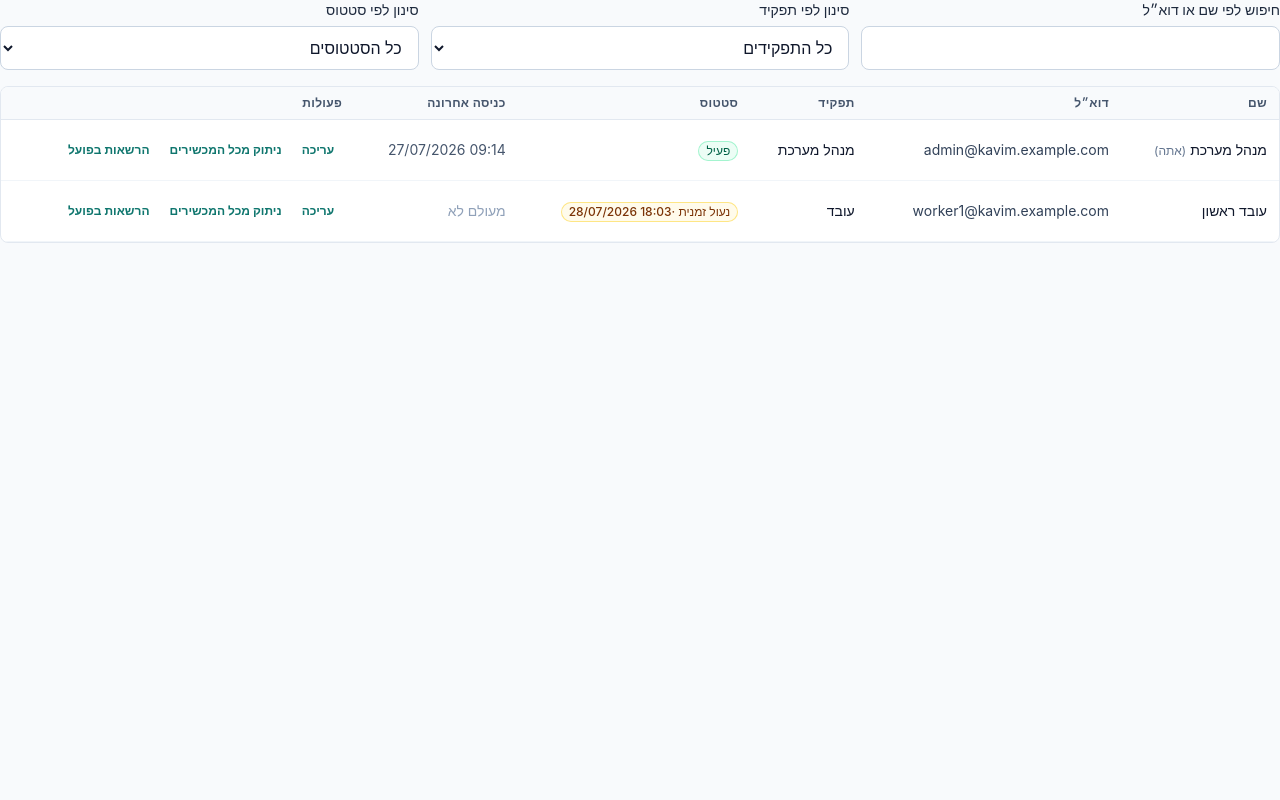
Scenario: UserTable › disables role and status on your own account rather than letting the server refuse it
What coordinates should you click on to do the following:
click the button "עריכה" in the row of "(אתה)"
I would click on:
 (318, 150)
Its box is [294, 128, 342, 172].
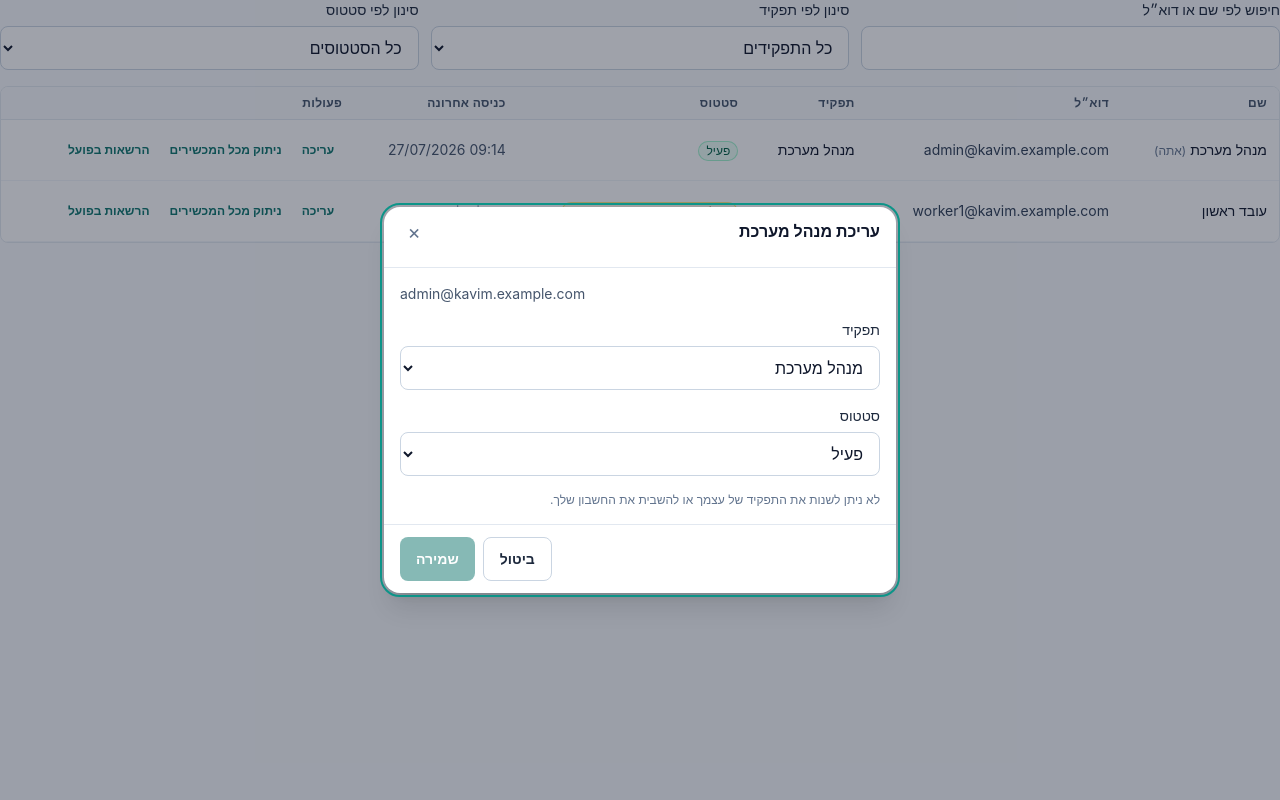
Expected: the dropdown labelled "תפקיד" is disabled, [400, 346, 880, 390]
Expected: the dropdown labelled "סטטוס" is disabled, [400, 432, 880, 476]
Expected: the dialog shows "לא ניתן לשנות את התפקיד של עצמך", [550, 492, 880, 507]
